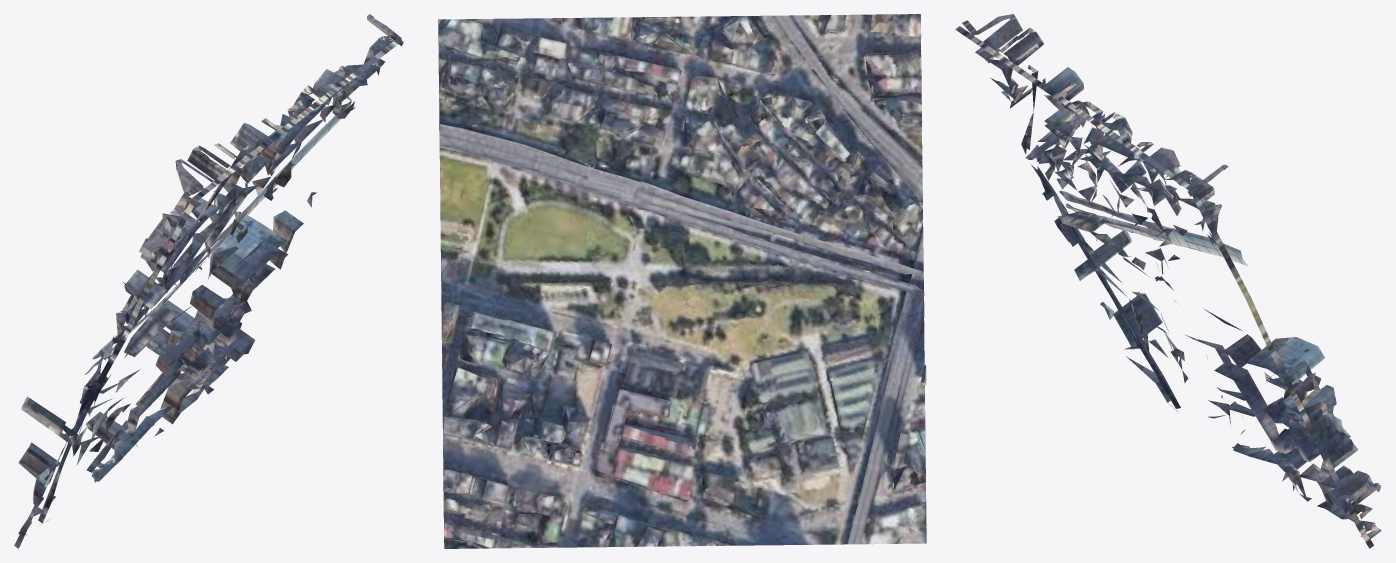
The picture shows the model from 3 angles, left to right: view 1: azimuth 30°, elevation 25°; view 2: azimuth 150°, elevation 25°; view 3: azimuth 270°, elevation 25°; orthographic projection. The views are drawn at different scales.
Size of the model in its own units: 614 by 578 by 527.
1 material, 1 textured.
